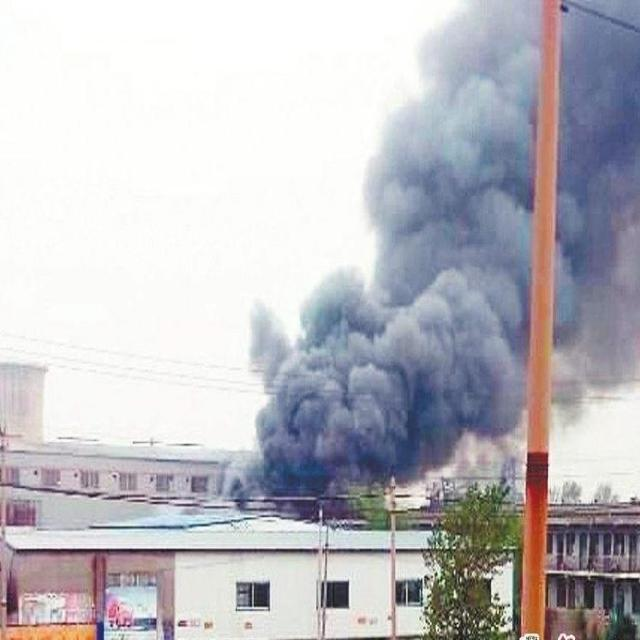Smoke: (221, 1, 640, 525)
